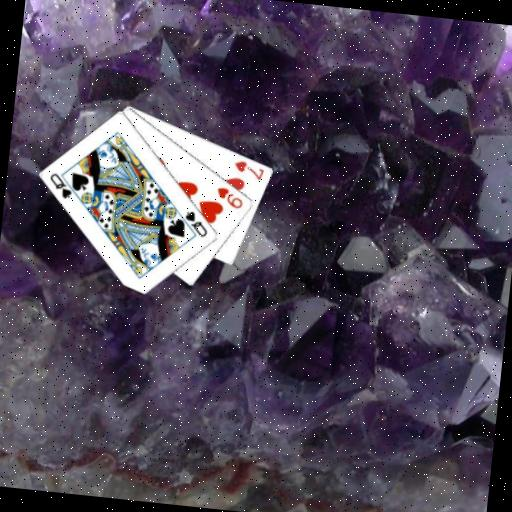7H: (231, 157, 267, 182)
9H: (213, 184, 247, 211)
QS: (180, 208, 211, 240), (45, 169, 76, 201)
